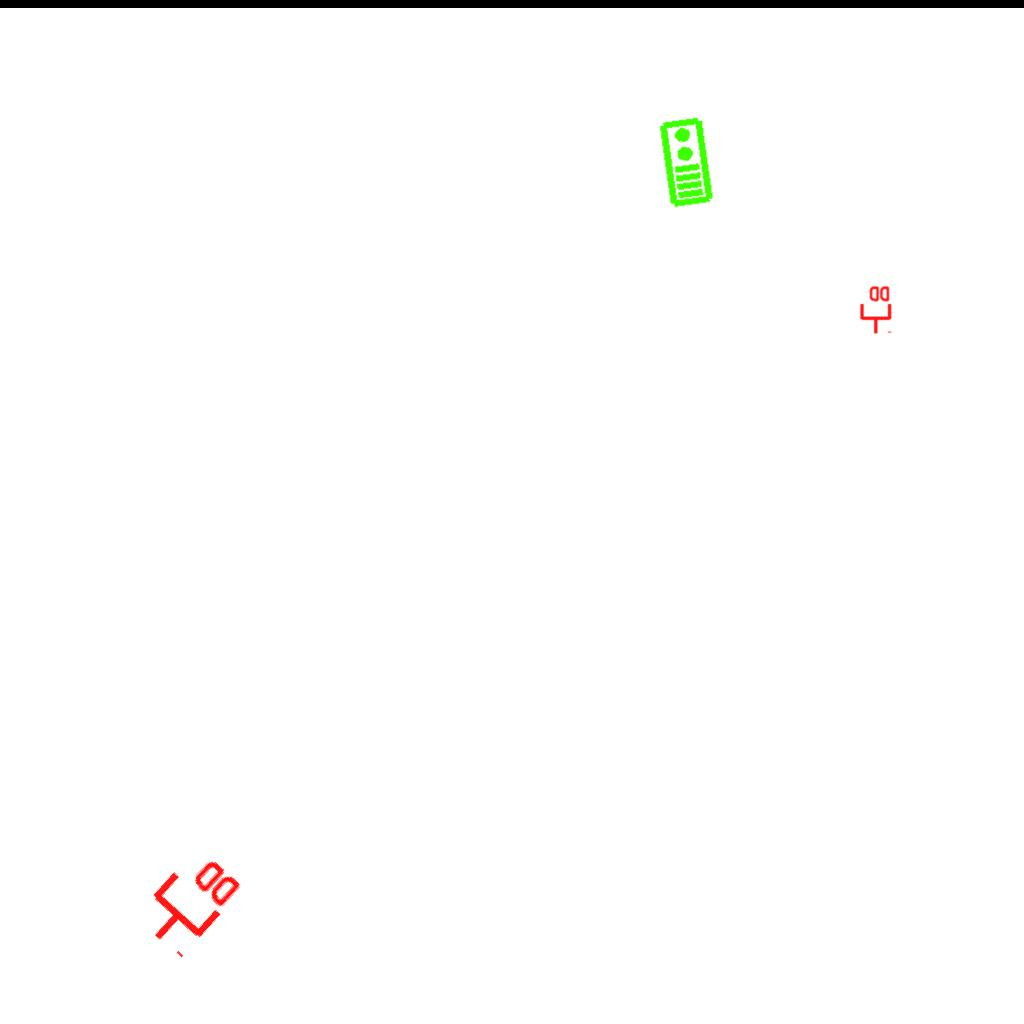Datenanschluss_zweifach: (128, 839, 249, 962), (858, 284, 892, 335)
Gegensprechanlage_mit_Video: (656, 115, 715, 209)
